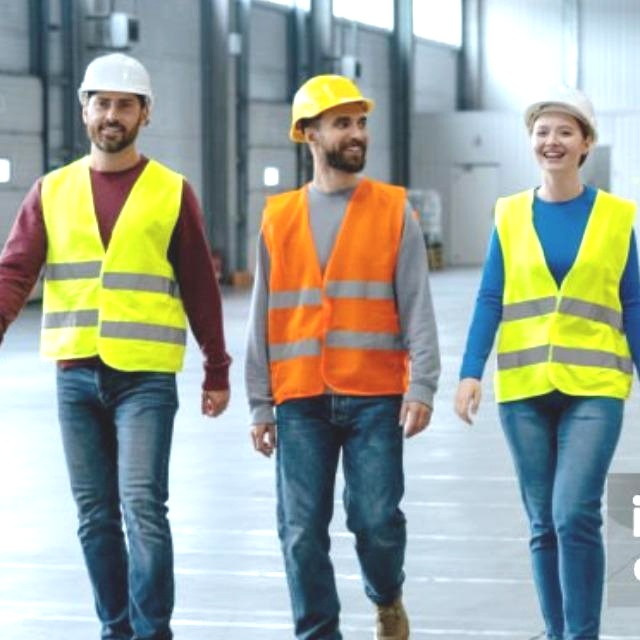Con_Casco: (281, 70, 383, 173), (80, 52, 159, 153), (518, 85, 606, 174)
Con_Chaleco: (31, 154, 197, 372), (262, 180, 420, 397), (488, 187, 638, 401)
